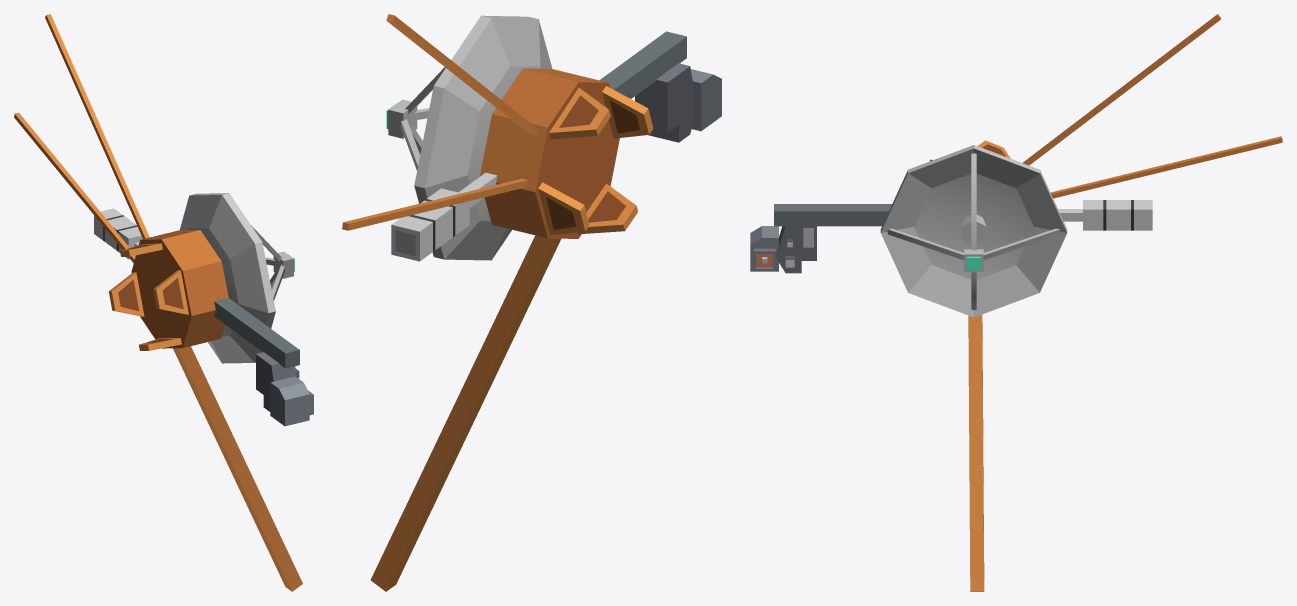
The model's file is gear_gun_01.fbx.
The picture shows the model from 3 angles, left to right: view 1: azimuth 30°, elevation 25°; view 2: azimuth 150°, elevation 25°; view 3: azimuth 270°, elevation 25°; orthographic projection. The views are drawn at different scales.
Parts seen in each view (by area): view 1: gear_gun_01_base; view 2: gear_gun_01_base; view 3: gear_gun_01_base.
Boxes of the visible parts, x1=… form: gear_gun_01_base: x1=14, y1=14, x2=313, y2=591; gear_gun_01_base: x1=342, y1=14, x2=721, y2=591; gear_gun_01_base: x1=750, y1=14, x2=1282, y2=591.
Bounding box in the file's own units: 0.9388 × 2.78 × 2.59.
Materials: 1 (1 with a texture image).
